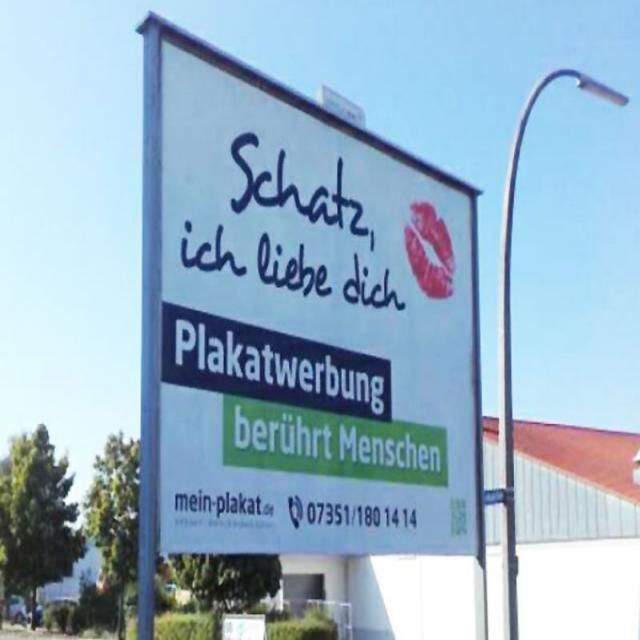Werbetafel frei: (139, 15, 482, 563)
